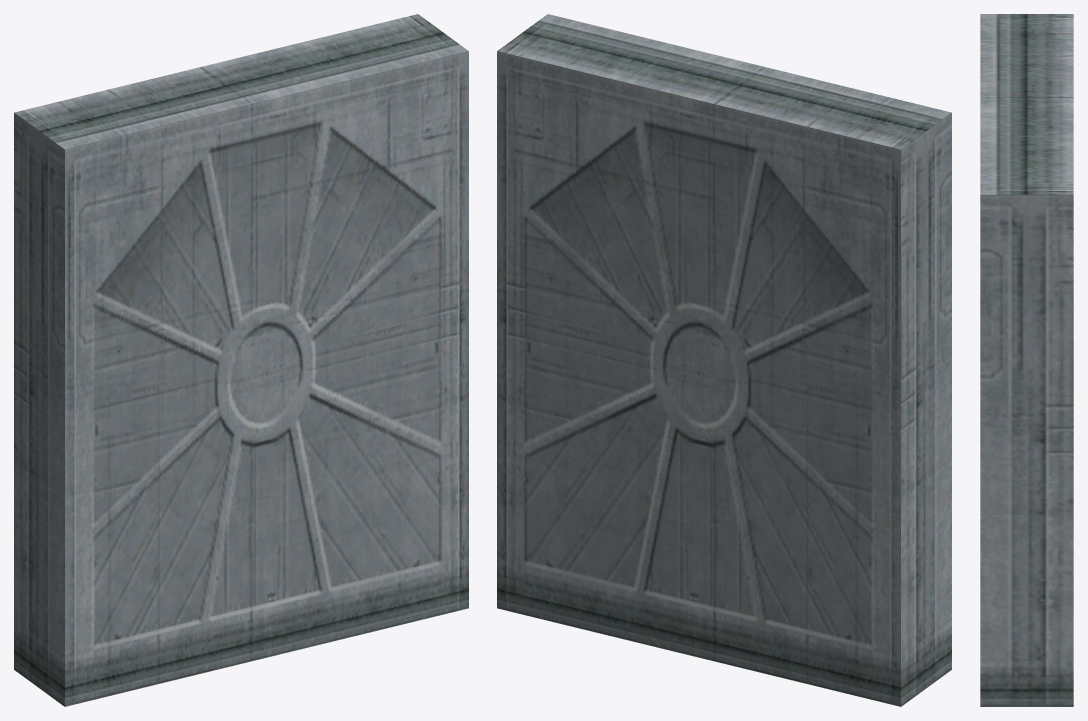
Rendered from door_newbiehall_l1.fbx.
The picture shows the model from 3 angles, left to right: view 1: azimuth 30°, elevation 25°; view 2: azimuth 150°, elevation 25°; view 3: azimuth 270°, elevation 25°; orthographic projection. The views are drawn at different scales.
Visible parts, largest first — view 1: mesh_node; view 2: mesh_node; view 3: mesh_node.
Part boxes in pixels (x1=…): mesh_node: x1=14, y1=14, x2=468, y2=706; mesh_node: x1=497, y1=14, x2=951, y2=706; mesh_node: x1=980, y1=14, x2=1073, y2=706.
Bounding box in the file's own units: 3.08 × 4.06 × 0.6706.
1 material, 1 textured.
